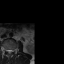CCS_normal: (9, 48, 10, 55)
LFS_normal: (12, 48, 14, 53)
LLS_normal: (10, 48, 12, 53)
RFS_normal: (5, 47, 7, 53)
RLS_normal: (7, 48, 9, 53)
